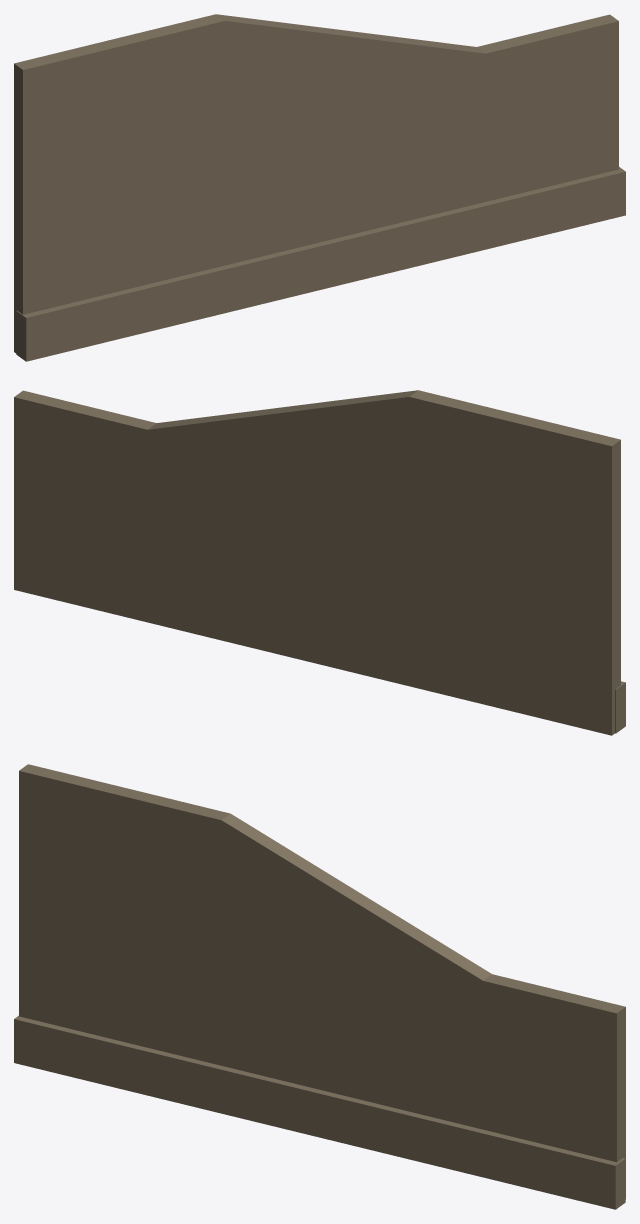
Rendered from wall1.fbx.
The picture shows the model from 3 angles, top to bottom: view 1: azimuth 30°, elevation 25°; view 2: azimuth 150°, elevation 25°; view 3: azimuth 330°, elevation 25°; orthographic projection.
Parts seen in each view (by area): view 1: wall1; view 2: wall1; view 3: wall1.
Boxes of the visible parts, <box> form: wall1: <box>14,14,625,361</box>; wall1: <box>14,390,625,735</box>; wall1: <box>14,764,625,1209</box>.
Bounding box in the file's own units: 17.21 × 7.91 × 0.6524.
